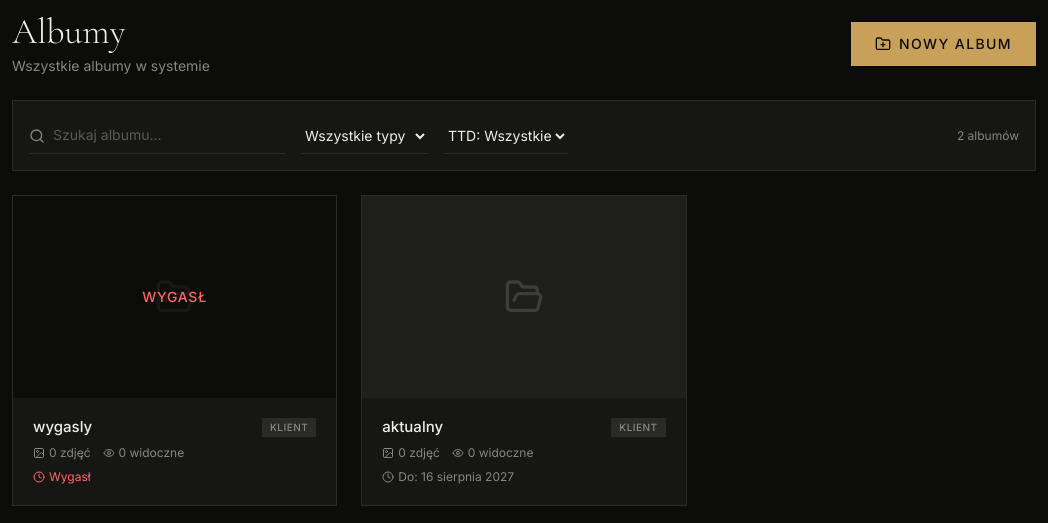
Test case: AdminAlbums › The expired filter keeps only albums past their date, not every album that has one
Expected: the heading "wygasly" is shown, 33,418 -> 92,437
Select "Wygasłe" in the 2nd dropdown: {"x": 506, "y": 136} 444,118 -> 568,154
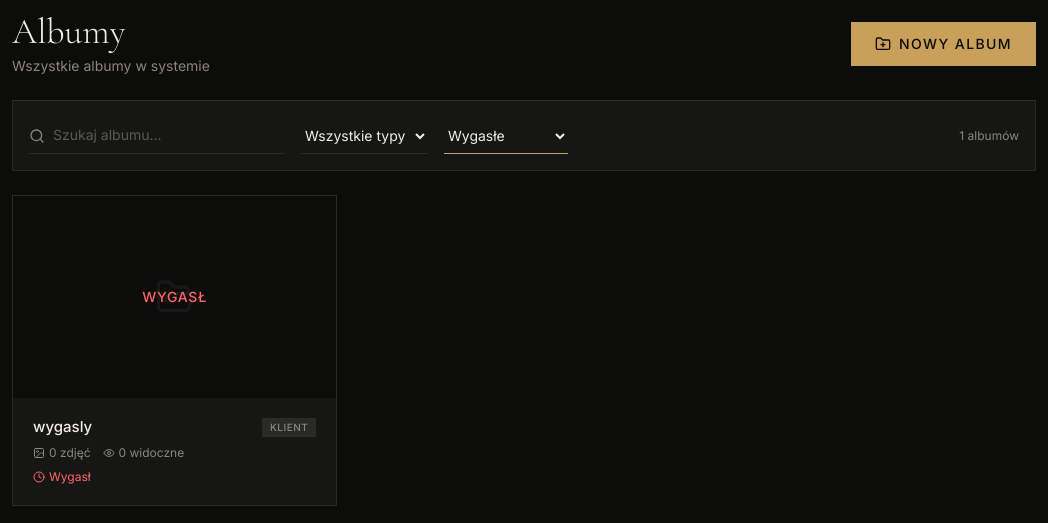
Expected: the heading "wygasly" is shown, 33,418 -> 92,437
Expected: the link "aktualny" is gone
